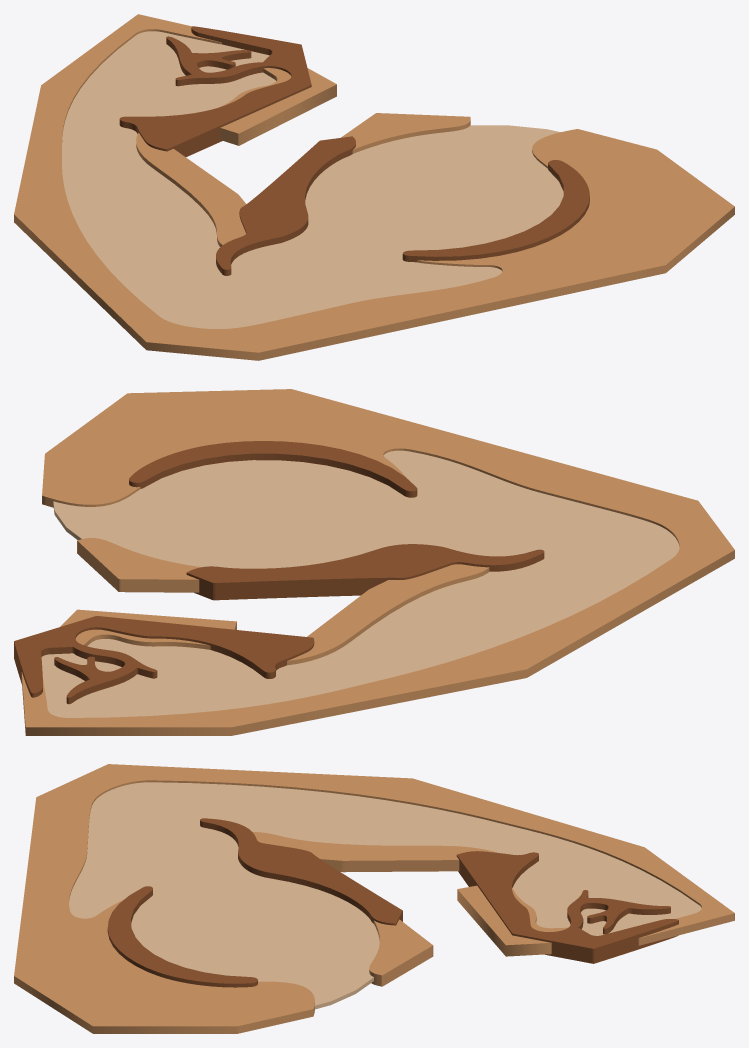
The model's file is emoji_u1f4aa_1f3fc.glb.
3 views of the same model, one above another, from view 1: azimuth 30°, elevation 25°; view 2: azimuth 150°, elevation 25°; view 3: azimuth 270°, elevation 25° (orthographic). The views are drawn at different scales.
Visible parts, largest first — view 1: emoji_u1f4aa_1f3fc; view 2: emoji_u1f4aa_1f3fc; view 3: emoji_u1f4aa_1f3fc.
Part boxes in pixels (box(x1,y1,x2,y2)): emoji_u1f4aa_1f3fc: box(14, 14, 734, 360); emoji_u1f4aa_1f3fc: box(14, 389, 734, 735); emoji_u1f4aa_1f3fc: box(14, 764, 734, 1033).
Size of the model in its own units: 0.0299 by 0.0008 by 0.0347.
